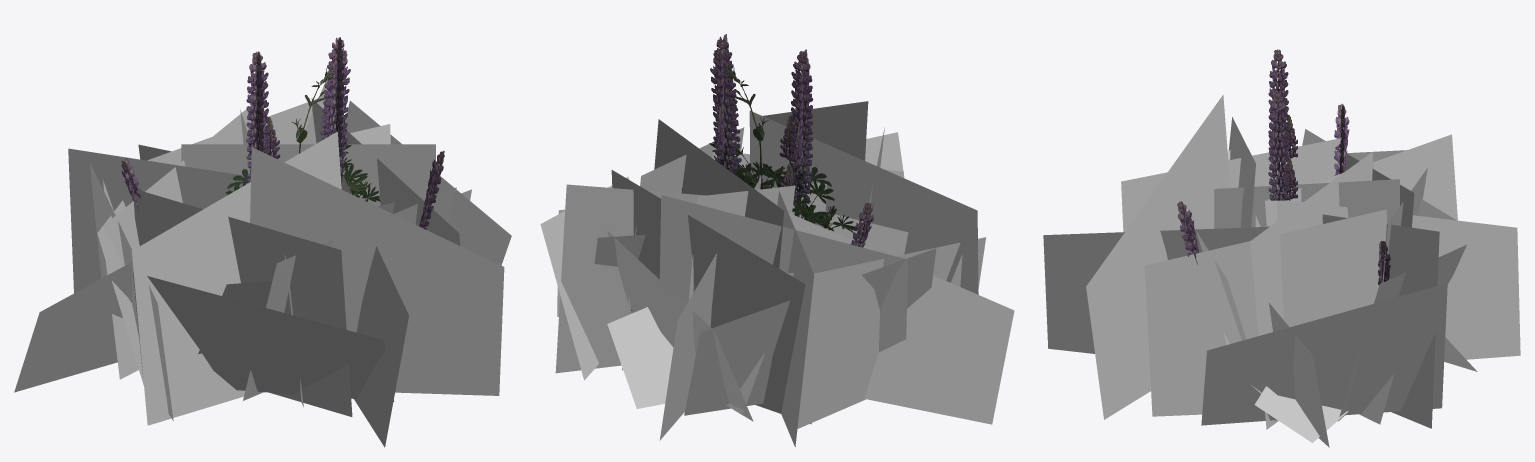
Rendered from SM_Veg_Plant_01.FBX.
3 renders of one model, left to right at view 1: azimuth 30°, elevation 25°; view 2: azimuth 150°, elevation 25°; view 3: azimuth 270°, elevation 25°, orthographic. The views are drawn at different scales.
Parts seen in each view (by area): view 1: SM_Veg_Plant_01; view 2: SM_Veg_Plant_01; view 3: SM_Veg_Plant_01.
Part boxes in pixels (x1=…): SM_Veg_Plant_01: x1=14, y1=37, x2=511, y2=447; SM_Veg_Plant_01: x1=540, y1=34, x2=1014, y2=446; SM_Veg_Plant_01: x1=1043, y1=49, x2=1520, y2=447.
Size of the model in its own units: 2.38 by 1.62 by 2.28.
